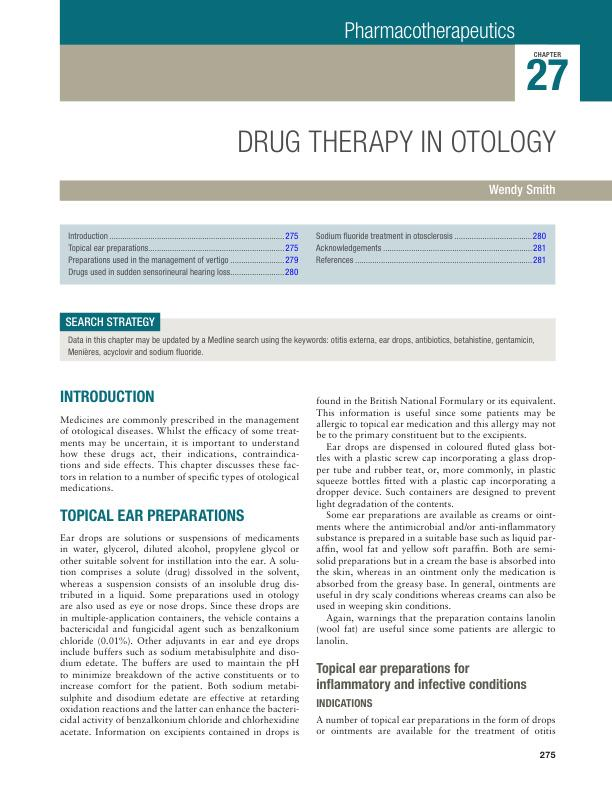chapter-heading: (236, 126, 558, 155)
section-heading: (58, 507, 246, 523), (59, 389, 156, 404)
sub-section-heading: (315, 662, 528, 693), (315, 697, 373, 709)
text: (314, 394, 557, 646), (59, 532, 301, 740), (58, 414, 300, 493), (67, 334, 537, 357), (314, 715, 558, 736)
